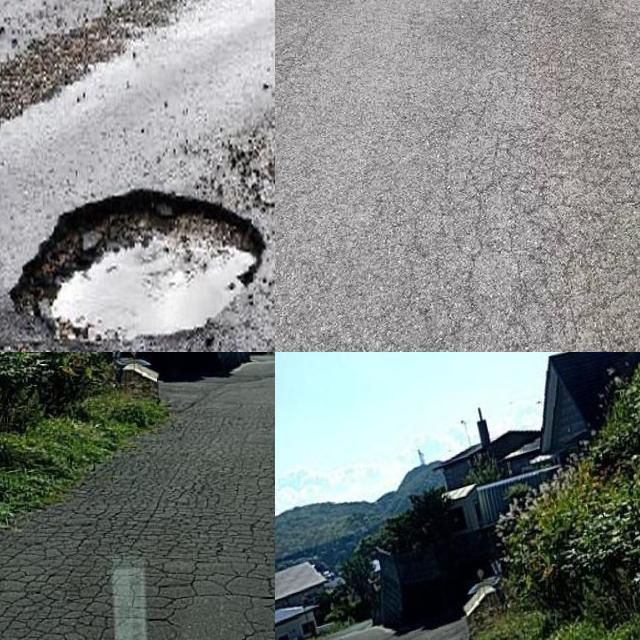Lubang: (17, 188, 272, 349)
Retak Buaya: (0, 409, 275, 640), (475, 134, 640, 352)
